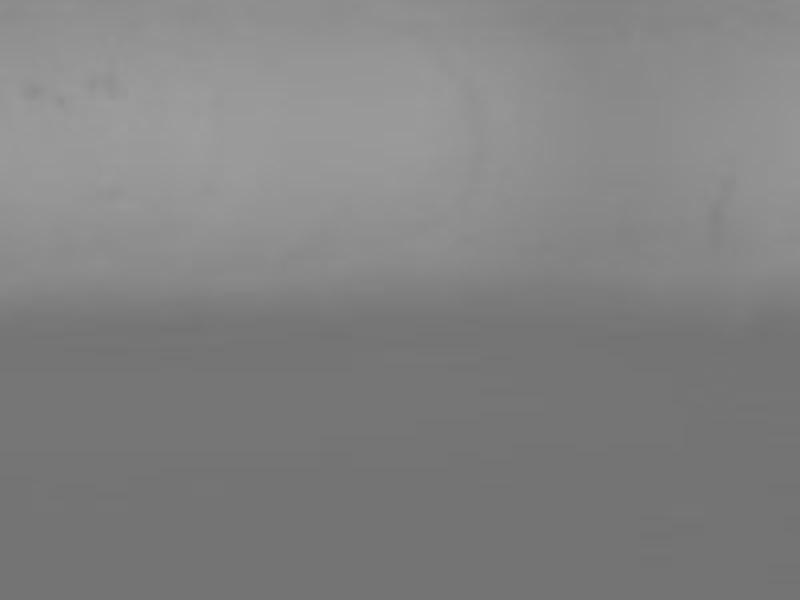defect: (83, 66, 125, 100), (50, 92, 70, 113), (26, 82, 47, 98)
